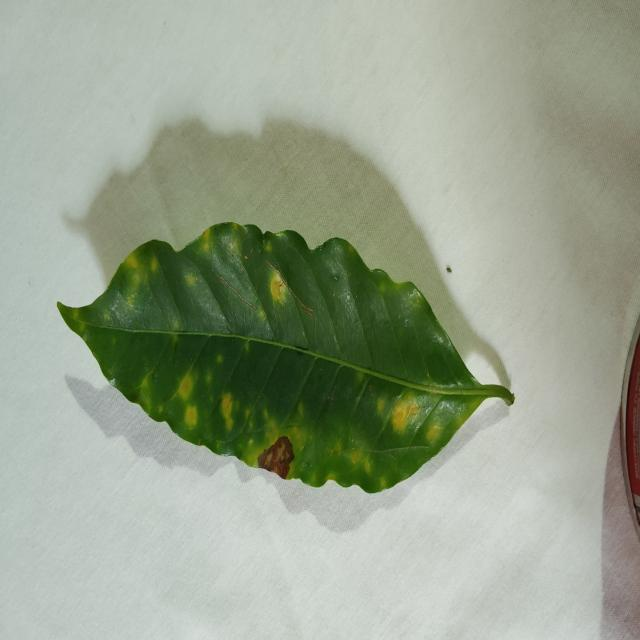Enfermedad-Roya: (55, 222, 515, 496)
